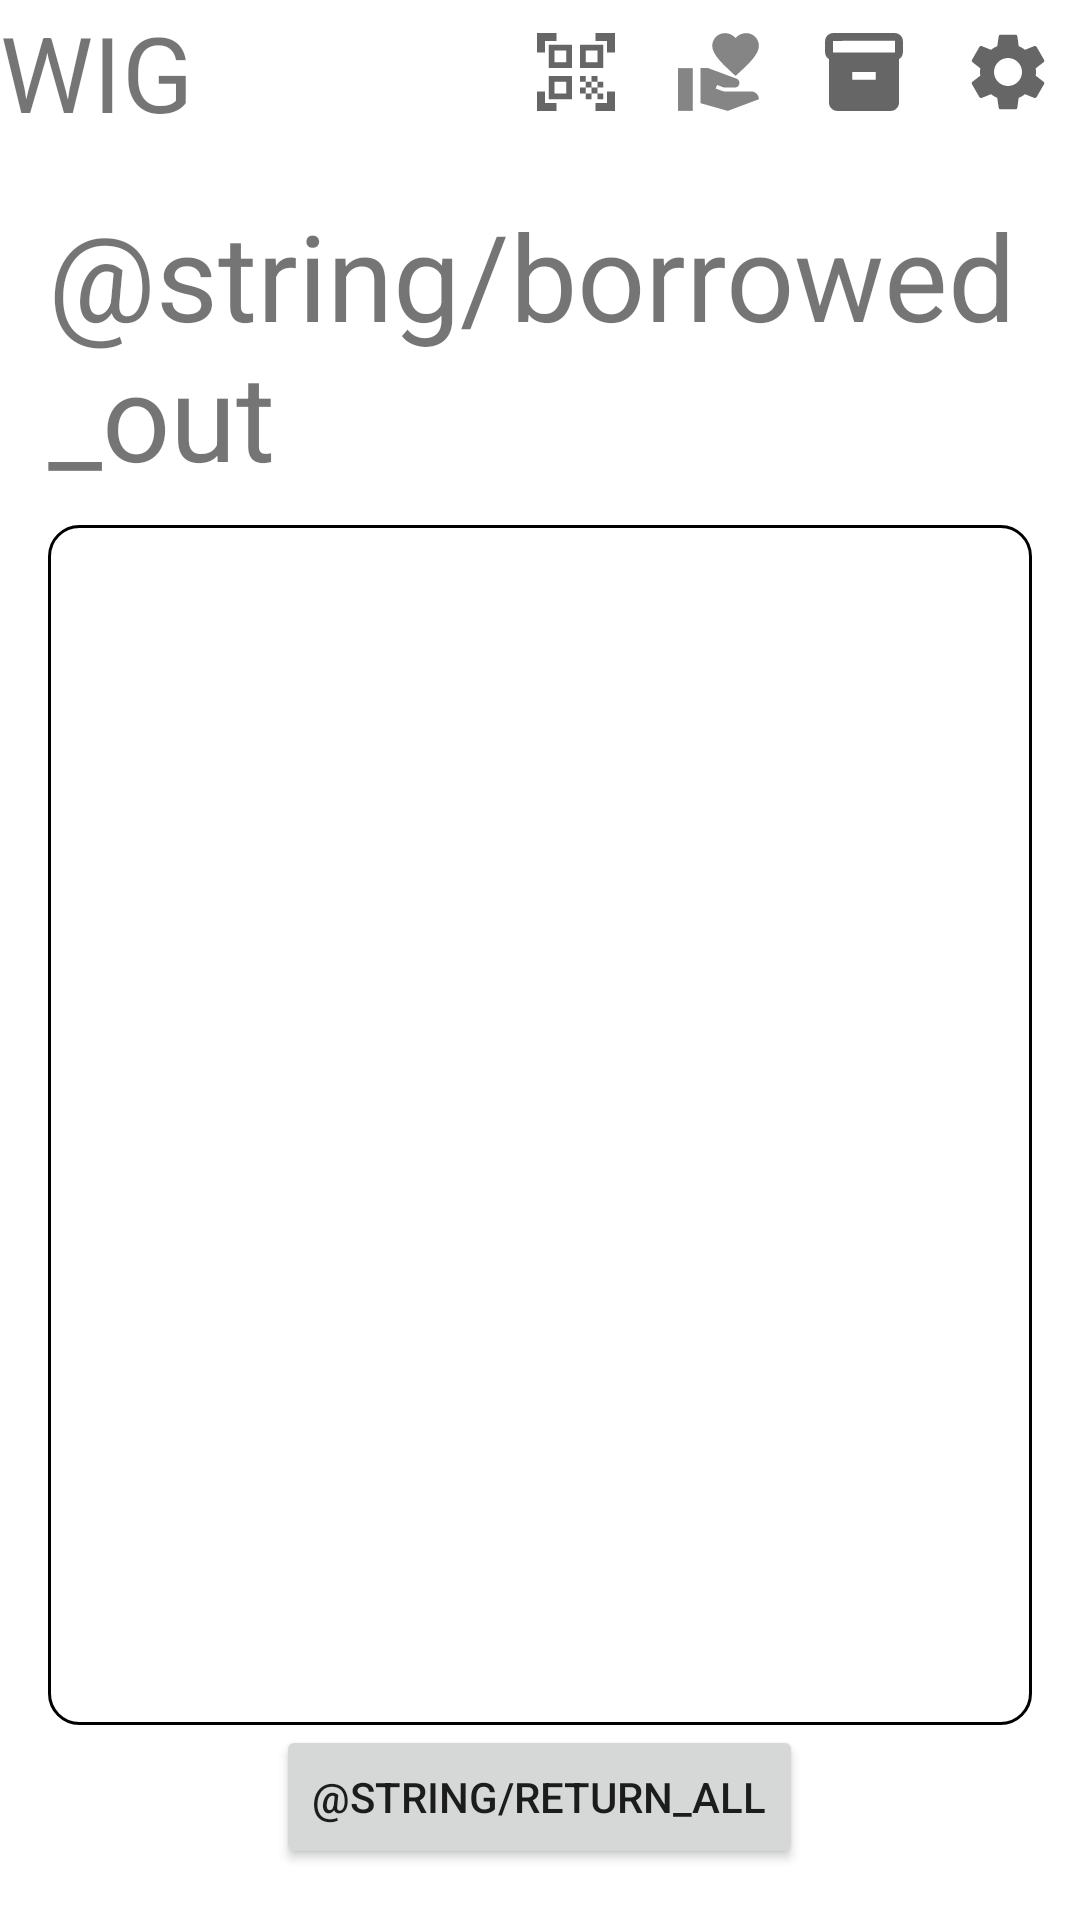

Icons on this 1080 x 1920 Android screen, each with the point to tap as (x,y):
Manage Inventory: (864,72)
Scanner: (576,72)
Settings: (1008,72)
